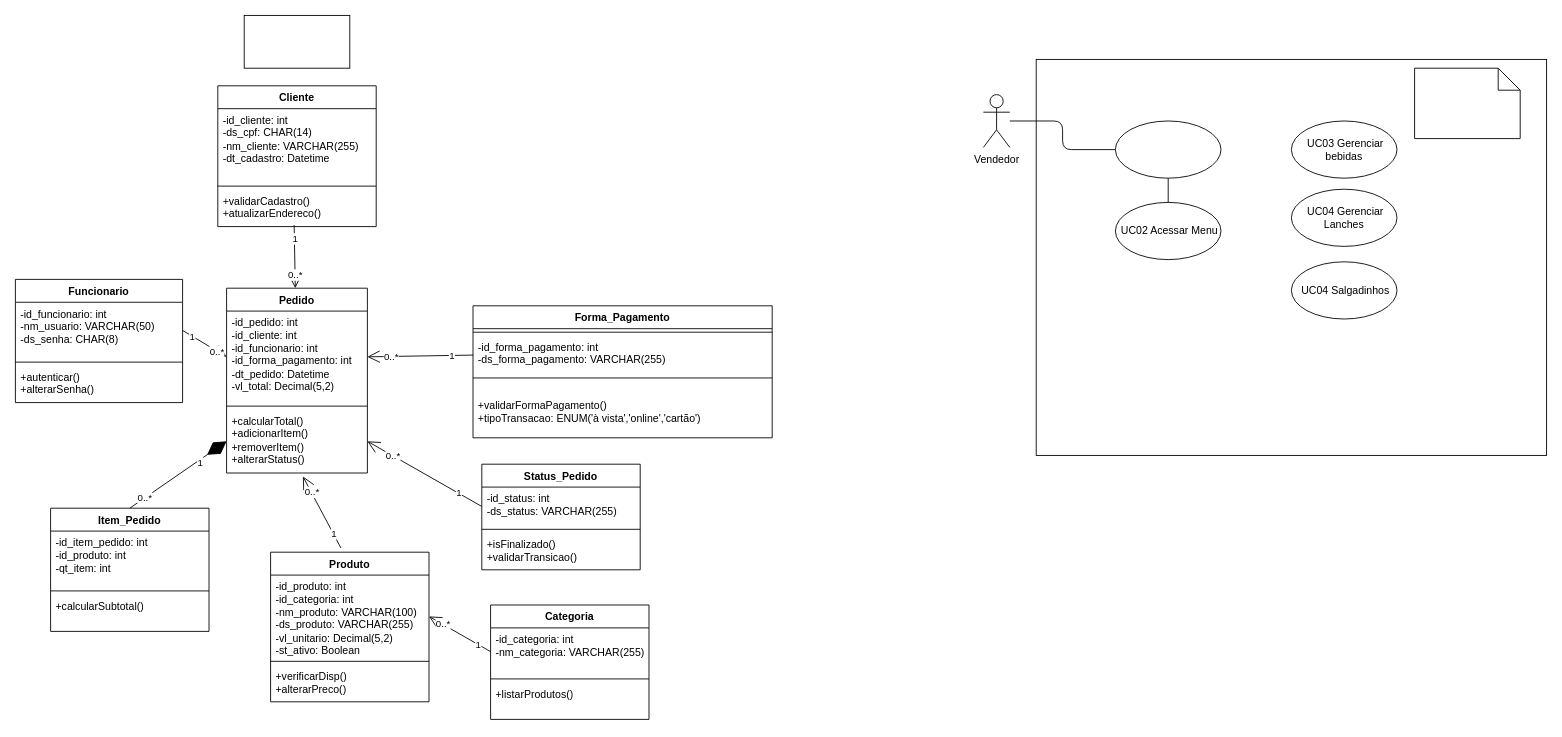
This 1562x737 diagram has some shape labels left out. The centre of each missing label's shape, as x and y in pixels:
Diagrama de Classes: the point at 296,41
Todos os UCs precisam executar a UC01: the point at 1467,103
UC01 Fazer Login: the point at 1168,149
